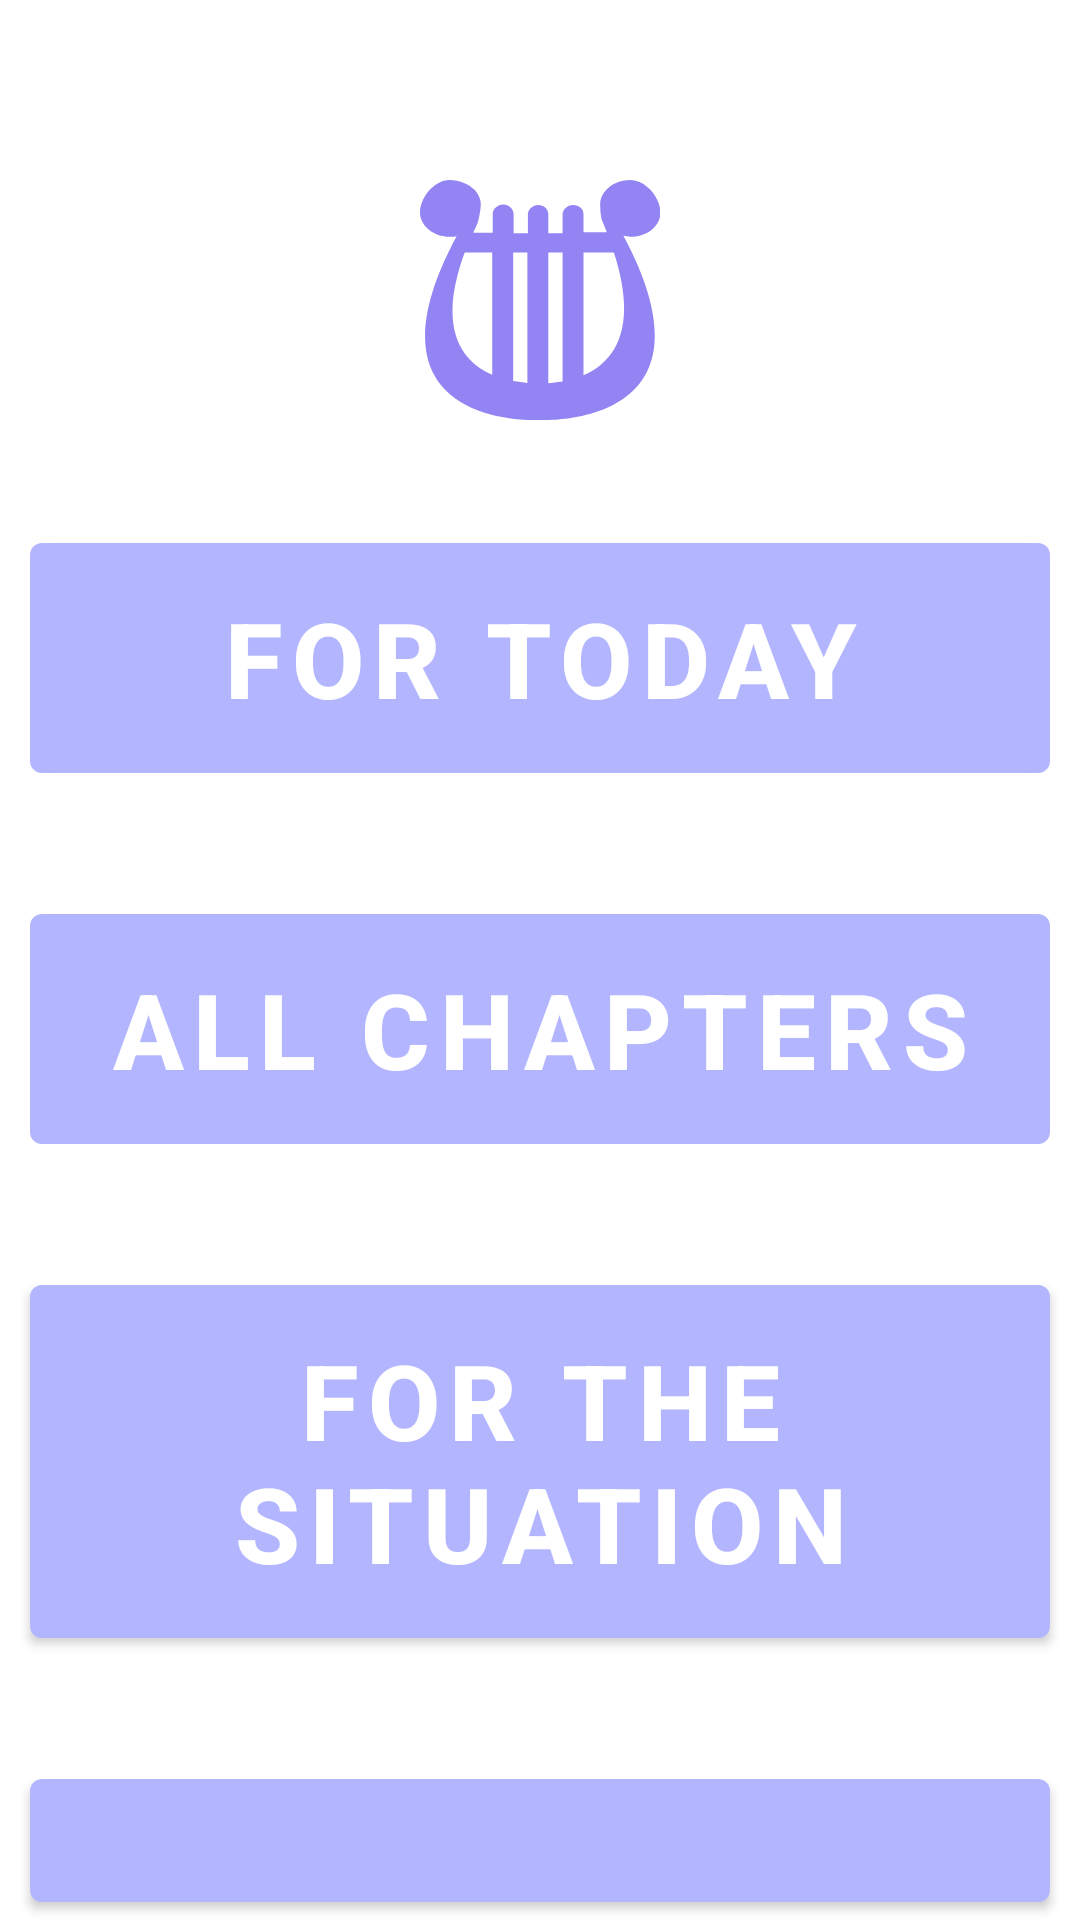

Named icons in this screenshot (1080*1920) and their centers, (x,y):
harp: (540,300)
